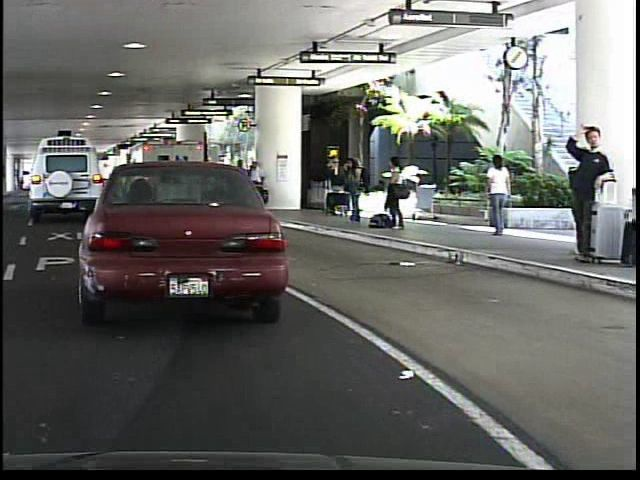person: (560, 118, 613, 265), (479, 154, 517, 238), (378, 154, 406, 231)
